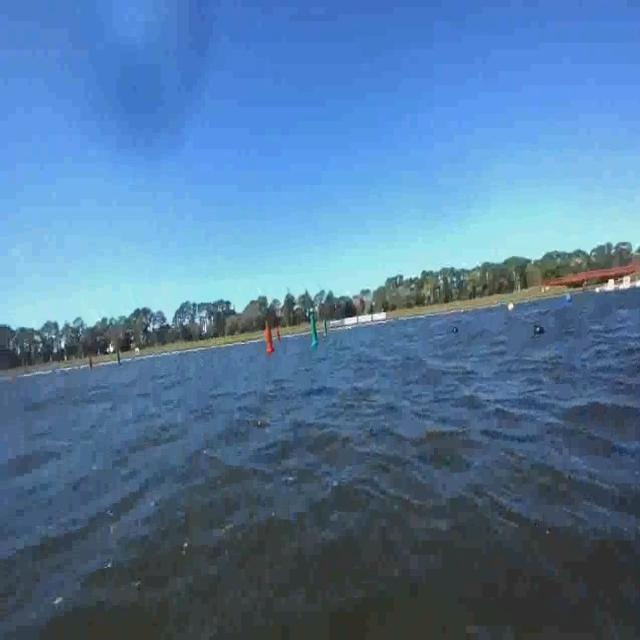black-buoy: (534, 324, 545, 337), (453, 326, 459, 336)
blue-buoy: (565, 291, 573, 305)
green-column-buoy: (308, 314, 317, 349), (326, 322, 332, 338)
red-column-buoy: (264, 328, 275, 356), (277, 328, 282, 343)
yellow-buoy: (506, 302, 514, 314)
